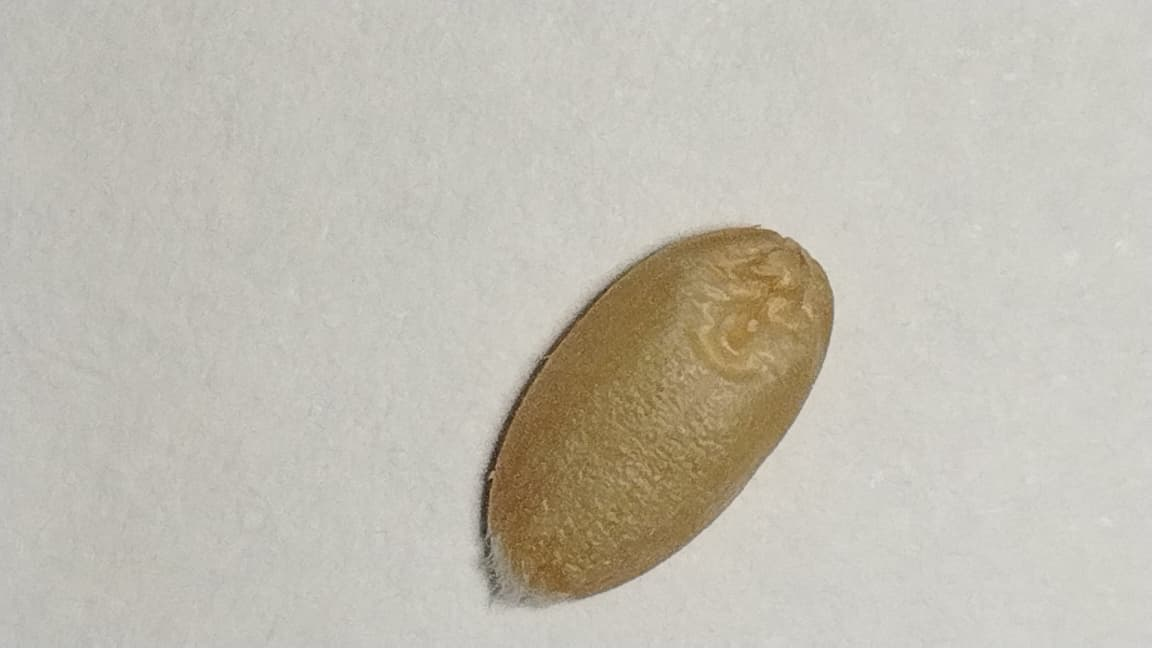healthy: (487, 228, 832, 603)
